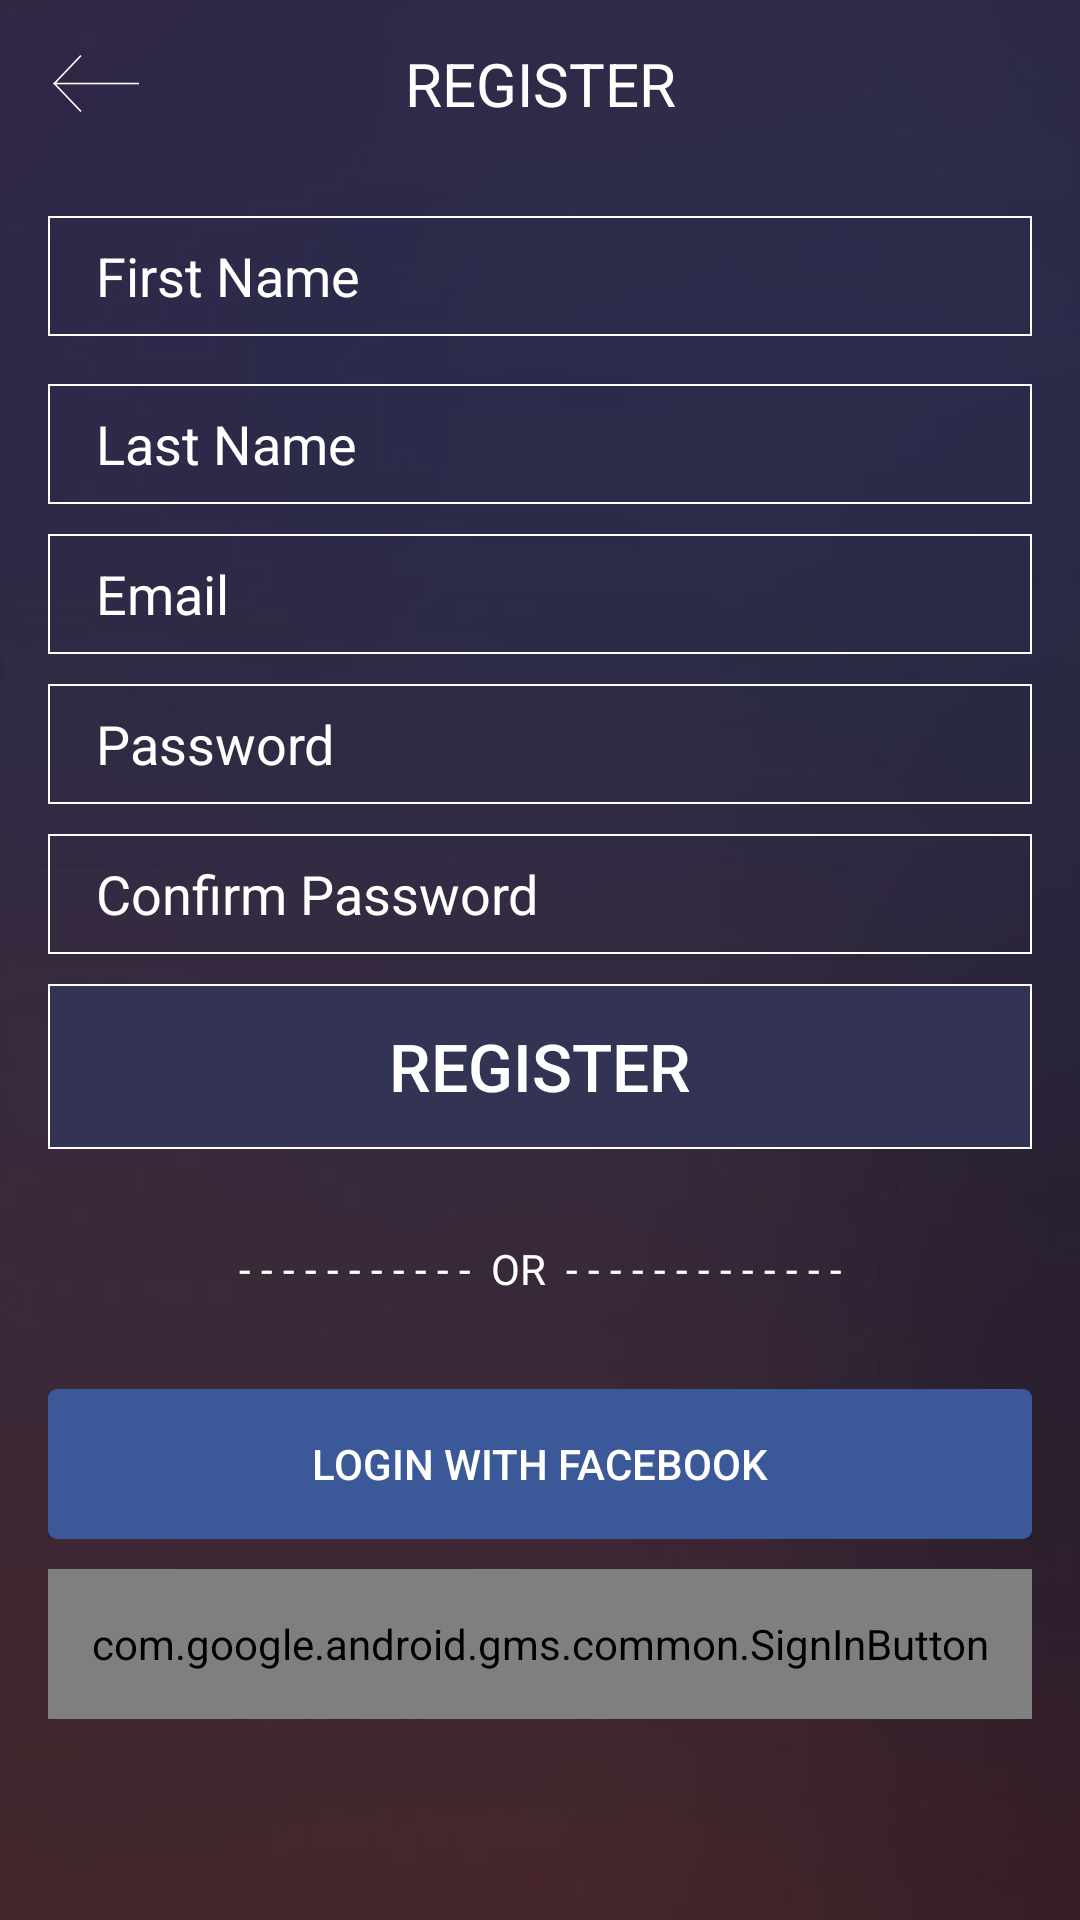

Icon bounding boxes for this 1080 × 1920 phone screenshot, format bbox=[x1, y1, x2, y2]:
arrow back: bbox=[53, 55, 139, 112]
